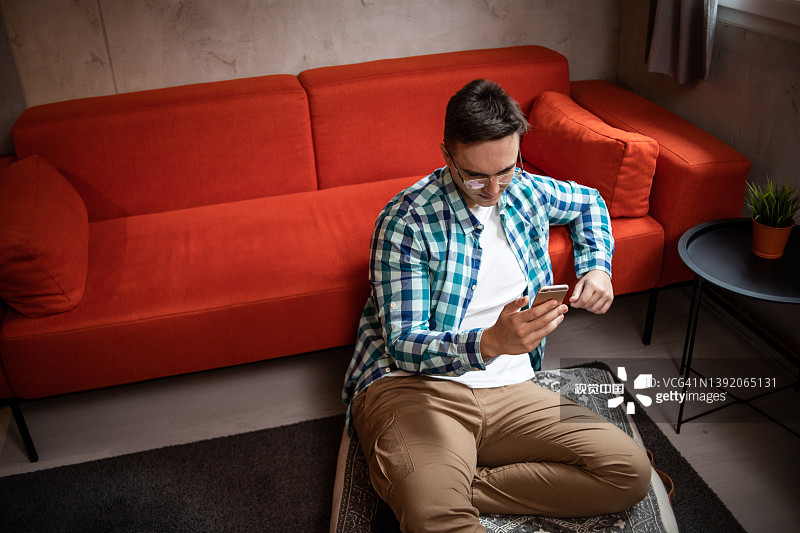no-phone: (566, 265, 625, 319)
reading: (477, 280, 579, 364)
